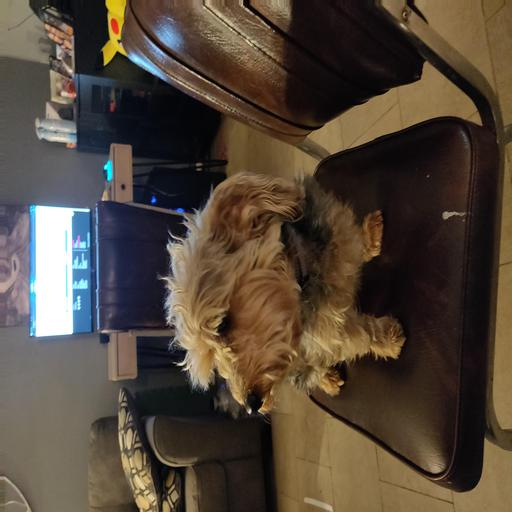dog: (138, 156, 399, 417)
